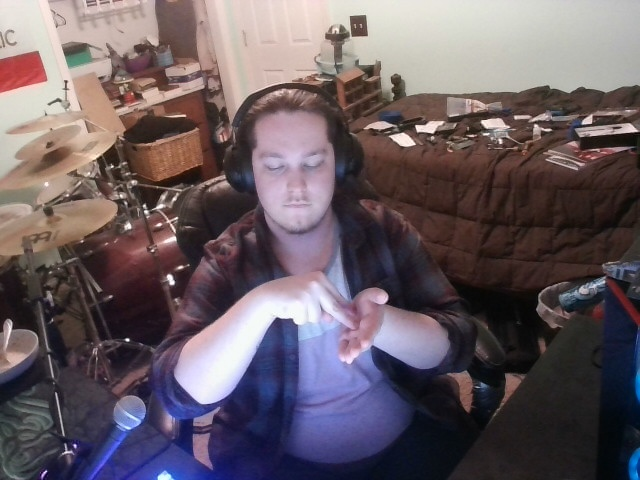fork: (252, 264, 397, 378)
